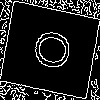O: (24, 25, 73, 73)
